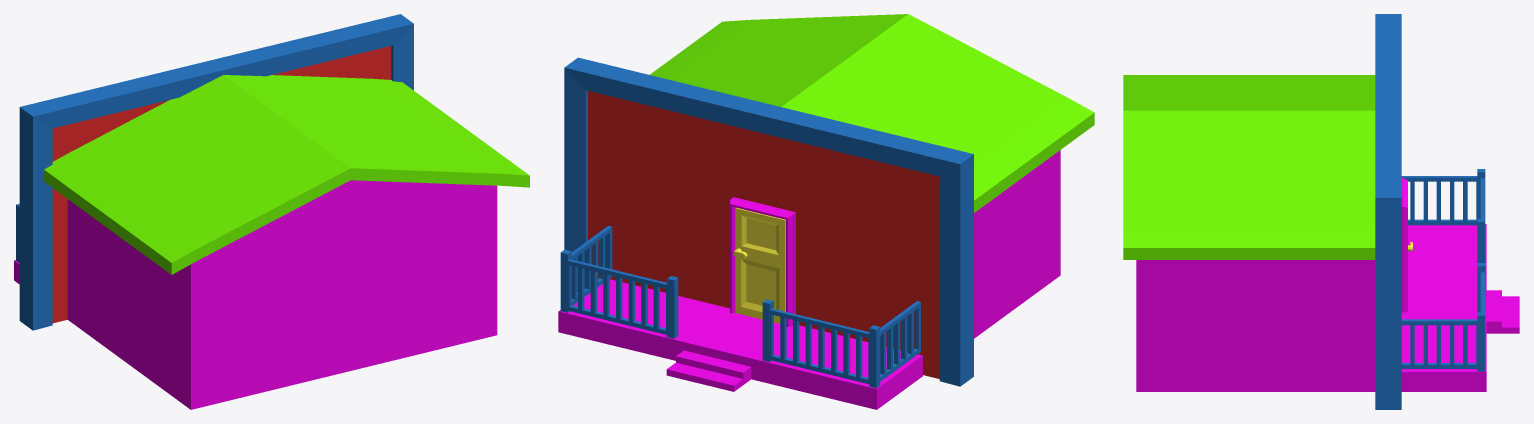
Rendered from House_Two.fbx.
The picture shows the model from 3 angles, left to right: view 1: azimuth 30°, elevation 25°; view 2: azimuth 150°, elevation 25°; view 3: azimuth 270°, elevation 25°; orthographic projection. The views are drawn at different scales.
Parts seen in each view (by area): view 1: Backhouse, Frame; view 2: Frame, Backhouse, PlatformsAndStair, Fence, DoorBottom, Post, DoorFrameBottom; view 3: Backhouse, PlatformsAndStair, Frame, Fence, Post, DoorFrameBottom.
Part boxes in pixels (bbox=[...]): Backhouse: bbox=[44, 75, 529, 409]; Frame: bbox=[19, 14, 413, 330]; Frame: bbox=[564, 57, 973, 386]; Backhouse: bbox=[650, 14, 1094, 338]; PlatformsAndStair: bbox=[558, 279, 922, 409]; Fence: bbox=[567, 226, 920, 383]; DoorBottom: bbox=[733, 207, 785, 323]; Post: bbox=[560, 249, 880, 387]; DoorFrameBottom: bbox=[730, 197, 795, 326]; Backhouse: bbox=[1123, 75, 1375, 391]; PlatformsAndStair: bbox=[1401, 224, 1519, 391]; Frame: bbox=[1375, 14, 1401, 409]; Fence: bbox=[1401, 176, 1484, 368]; Post: bbox=[1477, 169, 1485, 371]; DoorFrameBottom: bbox=[1401, 178, 1407, 312].
Size of the model in its own units: 9.95 by 5.34 by 9.05.
